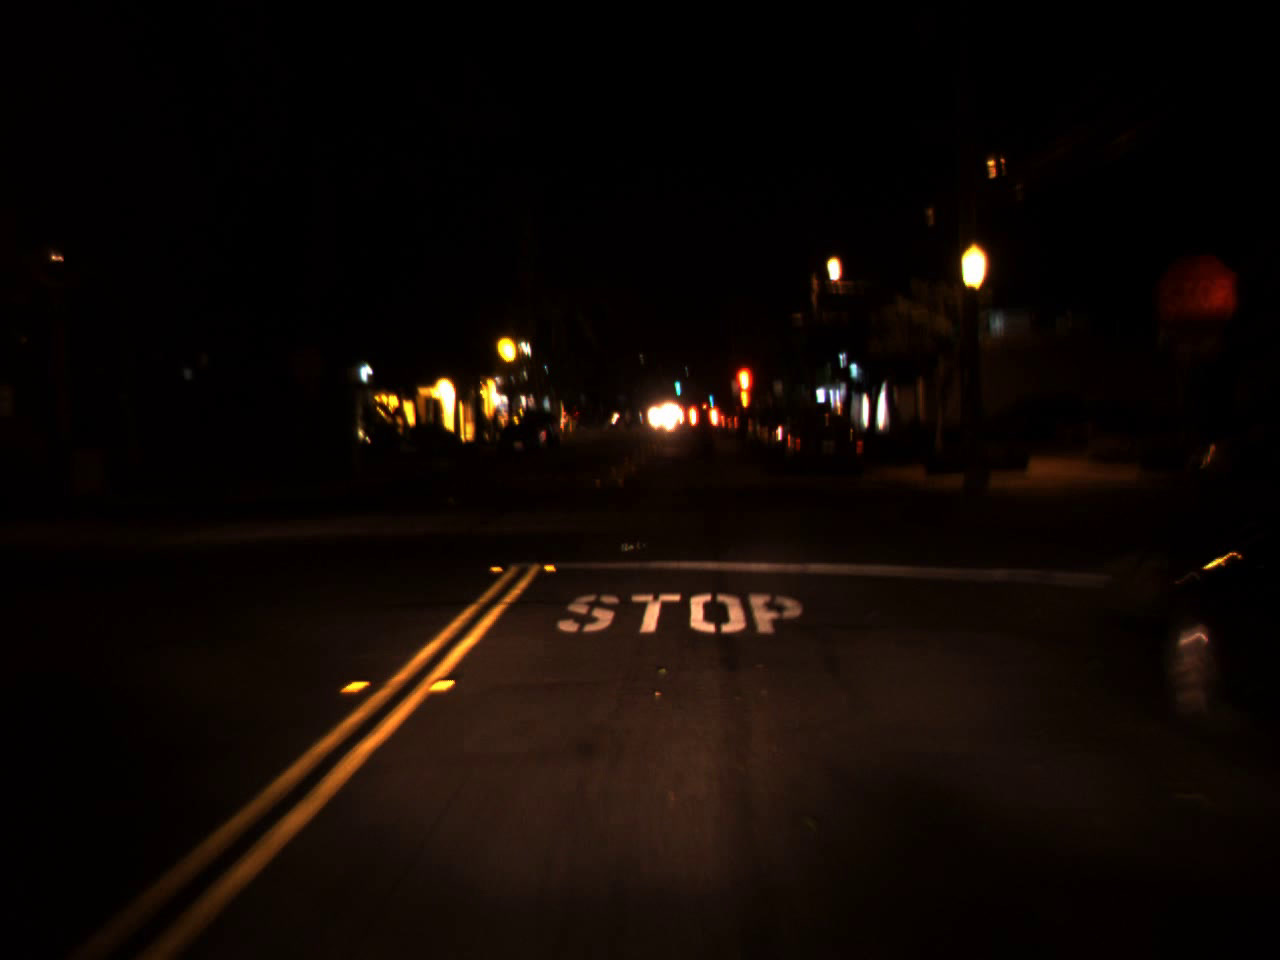go: (672, 370, 682, 394), (707, 387, 714, 405)
stop: (736, 368, 752, 395)
